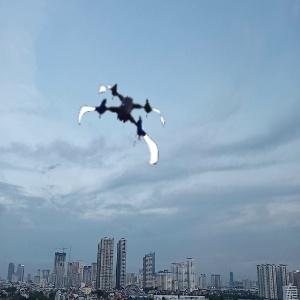drone: (77, 73, 169, 165)
